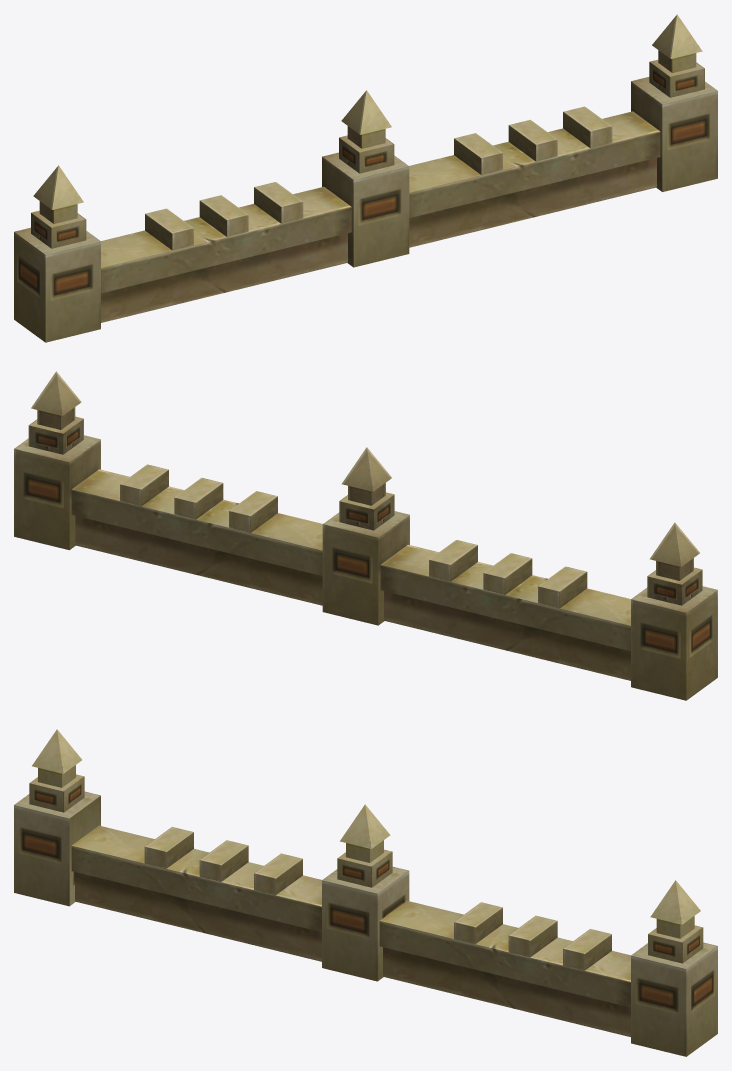
Rendered from qiao02.FBX.
The picture shows the model from 3 angles, top to bottom: view 1: azimuth 30°, elevation 25°; view 2: azimuth 150°, elevation 25°; view 3: azimuth 330°, elevation 25°; orthographic projection.
Visible parts, largest first — view 1: qiao01; view 2: qiao01; view 3: qiao01.
Boxes of the visible parts, <box> form: qiao01: <box>14,14,717,342</box>; qiao01: <box>14,371,717,700</box>; qiao01: <box>14,729,717,1056</box>.
Size of the model in its own units: 15.07 by 3.42 by 1.23.
